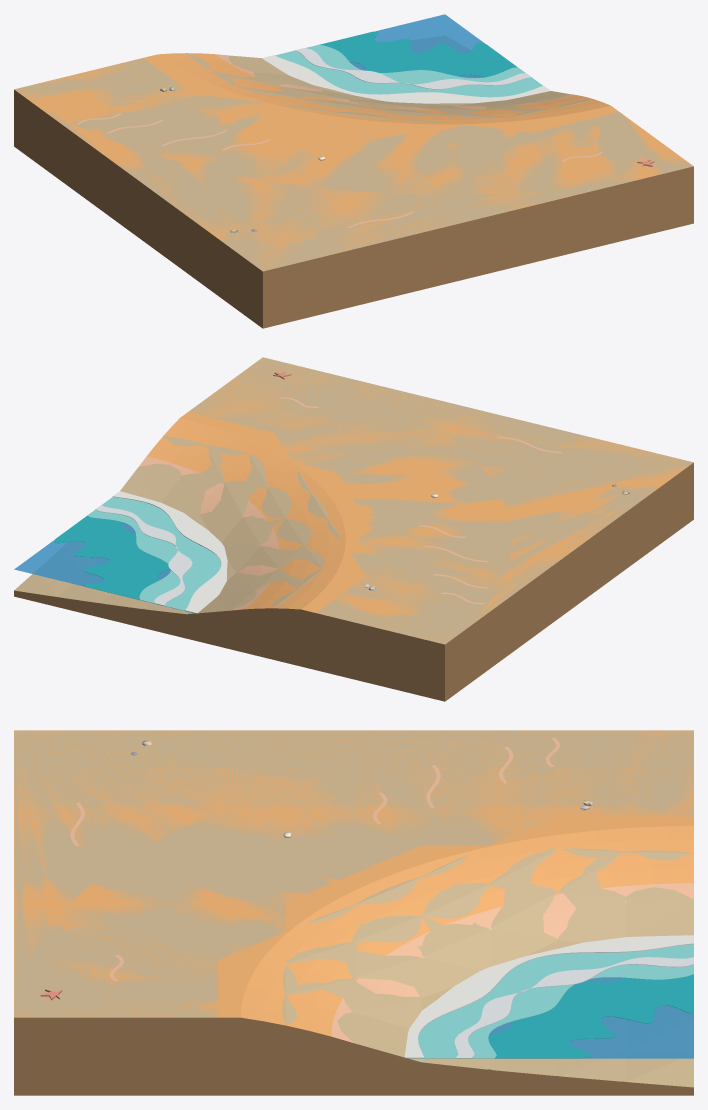
Rendered from costa_areia_canto_int.glb.
3 views of the same model, one above another, from view 1: azimuth 30°, elevation 25°; view 2: azimuth 150°, elevation 25°; view 3: azimuth 270°, elevation 25° (orthographic). The views are drawn at different scales.
Parts seen in each view (by area): view 1: colisao_praia, costa_areia_canto_int; view 2: colisao_praia, costa_areia_canto_int; view 3: colisao_praia, costa_areia_canto_int.
Part boxes in pixels (<box>): colisao_praia: <box>14,53,693,328</box>; costa_areia_canto_int: <box>14,14,693,328</box>; colisao_praia: <box>14,357,693,701</box>; costa_areia_canto_int: <box>14,358,693,700</box>; colisao_praia: <box>14,730,693,1095</box>; costa_areia_canto_int: <box>14,730,693,1095</box>.
Size of the model in its own units: 15 by 1.99 by 15.
Materials: 2 (1 with a texture image).
